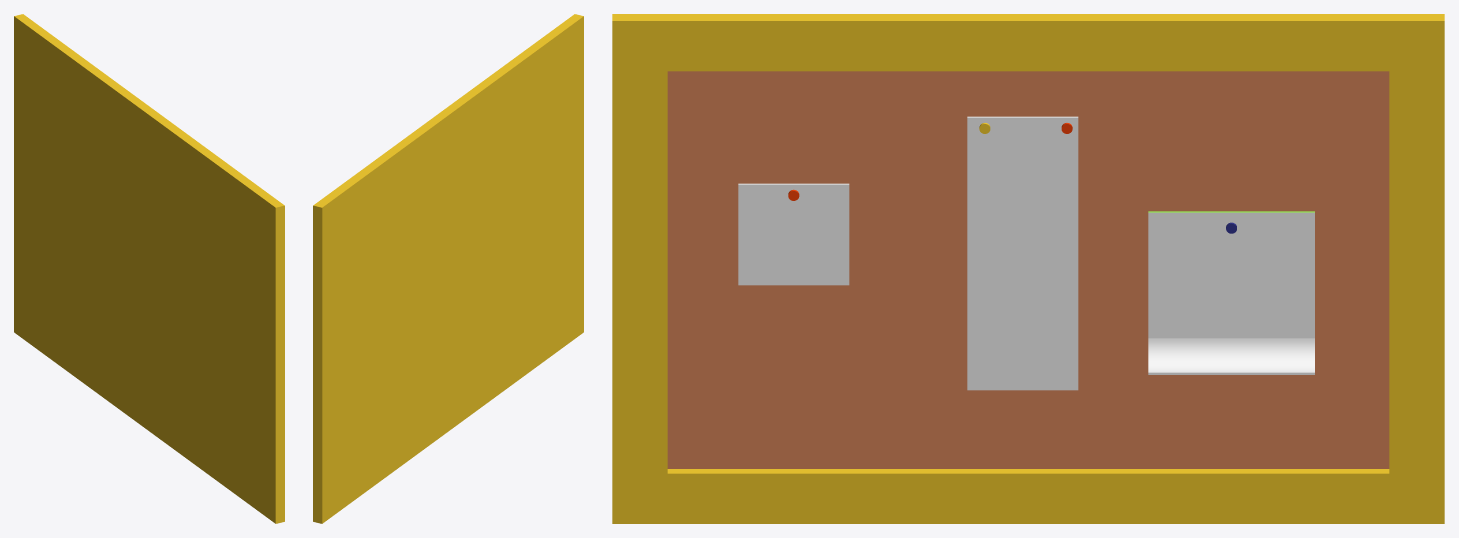
File: board2.glb
The picture shows the model from 3 angles, left to right: view 1: azimuth 30°, elevation 25°; view 2: azimuth 150°, elevation 25°; view 3: azimuth 270°, elevation 25°; orthographic projection. The views are drawn at different scales.
Parts seen in each view (by area): view 1: pizarra; view 2: pizarra; view 3: pizarra.
Boxes of the visible parts, bbox=[...] form: pizarra: bbox=[14, 14, 284, 523]; pizarra: bbox=[313, 14, 583, 523]; pizarra: bbox=[612, 14, 1444, 523].
Bounding box in the file's own units: 6.5 × 100 × 150.
